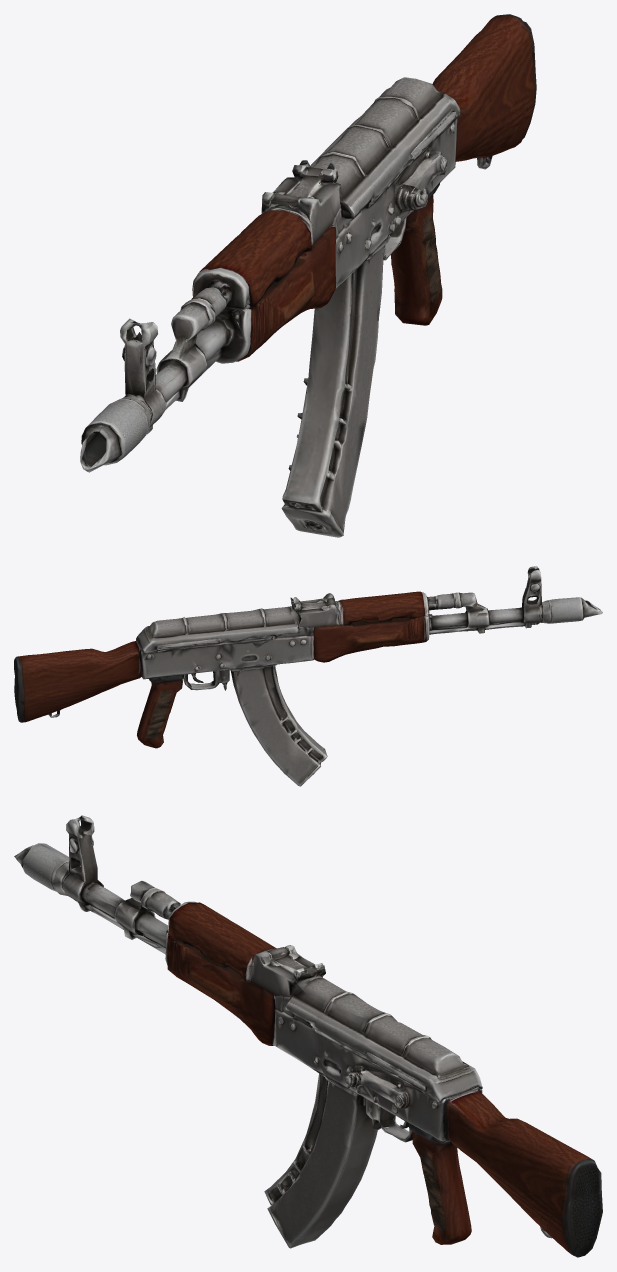
3 views of the same model, one above another, from view 1: azimuth 30°, elevation 25°; view 2: azimuth 150°, elevation 25°; view 3: azimuth 270°, elevation 25° (orthographic). The views are drawn at different scales.
Visible parts, largest first — view 1: tripo_node_f0558685-7160-4d42-bb48-5ec8356b9e95; view 2: tripo_node_f0558685-7160-4d42-bb48-5ec8356b9e95; view 3: tripo_node_f0558685-7160-4d42-bb48-5ec8356b9e95.
Boxes of the visible parts, x1,y1,x2,y2 form: tripo_node_f0558685-7160-4d42-bb48-5ec8356b9e95: [80, 14, 536, 537]; tripo_node_f0558685-7160-4d42-bb48-5ec8356b9e95: [14, 566, 602, 786]; tripo_node_f0558685-7160-4d42-bb48-5ec8356b9e95: [14, 815, 602, 1257].
Size of the model in its own units: 0.9772 by 0.4598 by 0.8061.
Materials: 1 (1 with a texture image).
